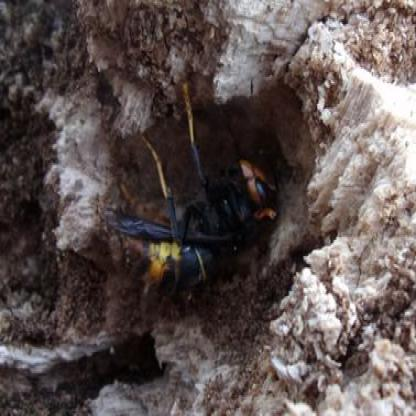Asian Hornet: (107, 77, 282, 304)
